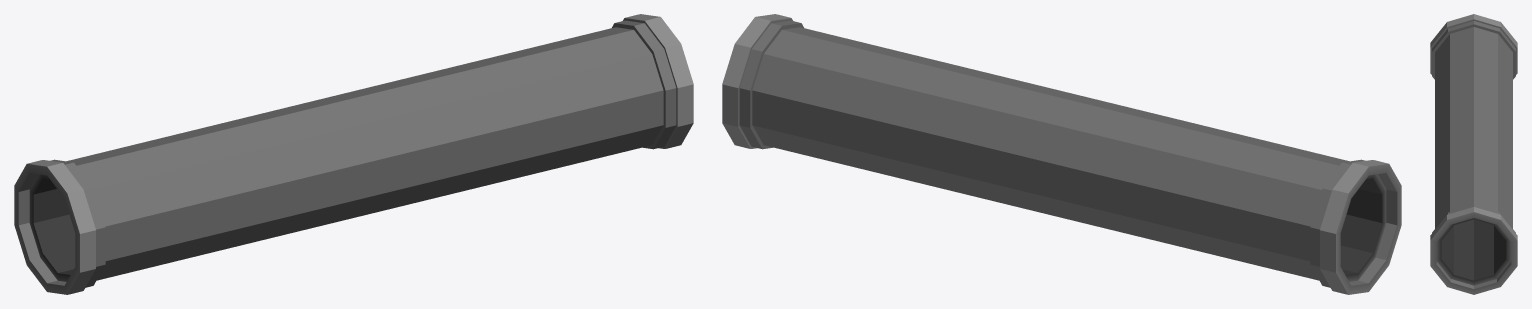
The model's file is Pipe.fbx.
3 views of the same model, side by side, from view 1: azimuth 30°, elevation 25°; view 2: azimuth 150°, elevation 25°; view 3: azimuth 270°, elevation 25° (orthographic). The views are drawn at different scales.
Parts seen in each view (by area): view 1: isl_Pipe_01_DEF.obj; view 2: isl_Pipe_01_DEF.obj; view 3: isl_Pipe_01_DEF.obj.
Boxes of the visible parts, left/top/right/bottom form: isl_Pipe_01_DEF.obj: left=14, top=14, right=693, bottom=294; isl_Pipe_01_DEF.obj: left=722, top=14, right=1401, bottom=294; isl_Pipe_01_DEF.obj: left=1430, top=14, right=1517, bottom=294.
Bounding box in the file's own units: 570 × 111 × 106.
